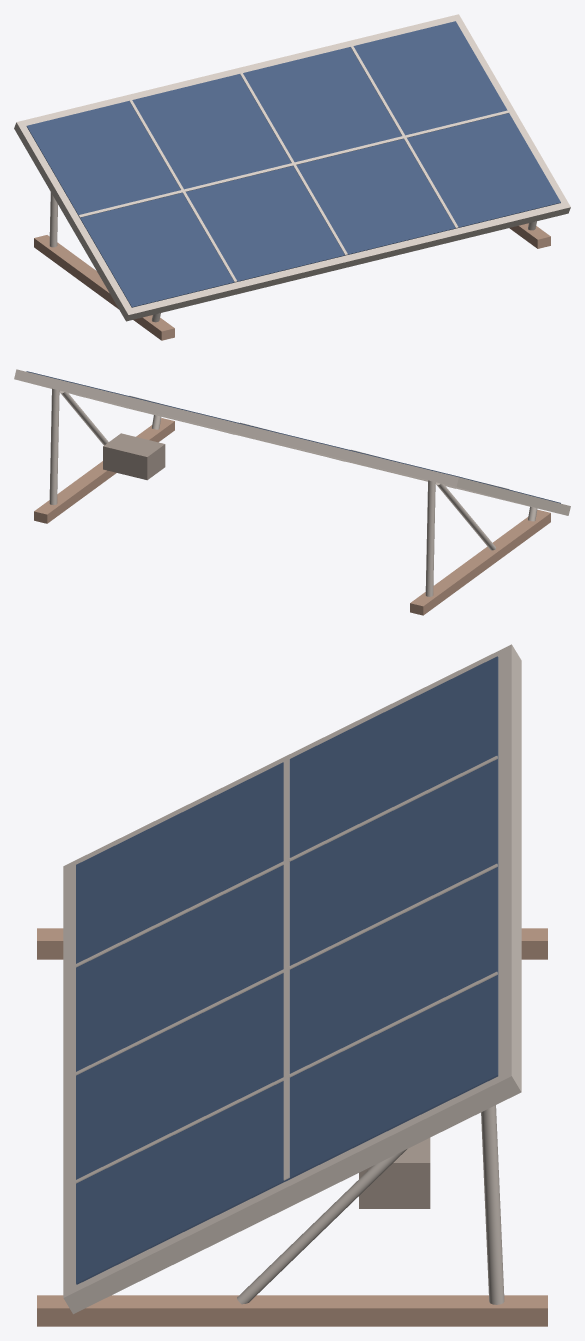
The model's file is P05_roof_solar_panel.glb.
3 renders of one model, top to bottom at view 1: azimuth 30°, elevation 25°; view 2: azimuth 150°, elevation 25°; view 3: azimuth 270°, elevation 25°, orthographic. The views are drawn at different scales.
Parts seen in each view (by area): view 1: frame_foot, object 2; view 2: object 2, frame_foot, junction_box; view 3: frame_foot, object 2, junction_box.
Part boxes in pixels (<box>): frame_foot: <box>26,21,560,340</box>; object 2: <box>14,14,570,322</box>; object 2: <box>14,369,570,596</box>; frame_foot: <box>26,371,560,615</box>; junction_box: <box>103,433,165,480</box>; frame_foot: <box>37,656,547,1326</box>; object 2: <box>63,644,521,1314</box>; junction_box: <box>359,1138,430,1208</box>.
Bounding box in the file's own units: 2 × 0.5972 × 1.
